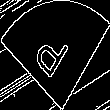P_SW: (33, 24, 77, 86)
